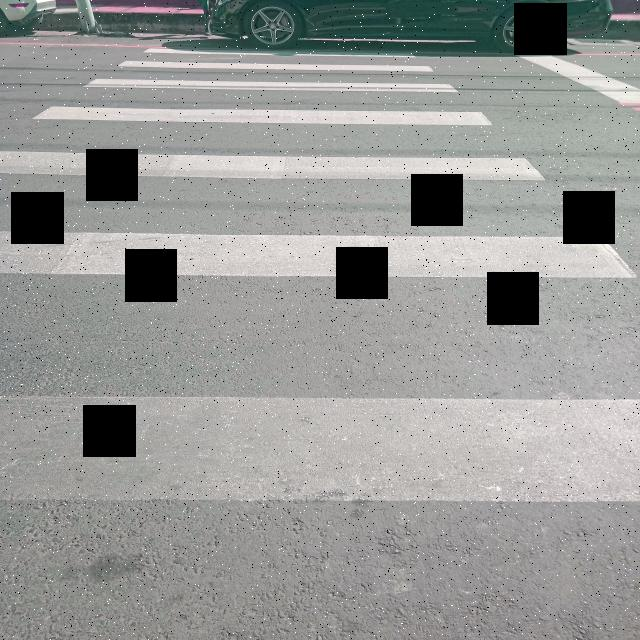zebra_crossing: (0, 43, 631, 509)
